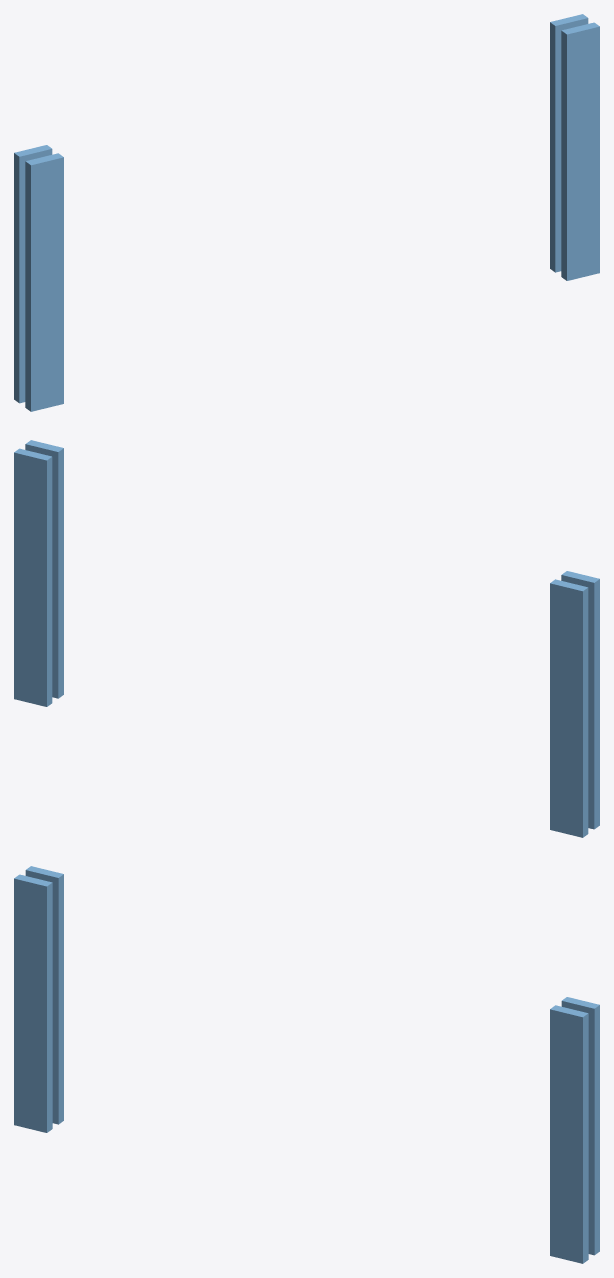
Rendered from Barras.fbx.
3 views of the same model, one above another, from view 1: azimuth 30°, elevation 25°; view 2: azimuth 150°, elevation 25°; view 3: azimuth 330°, elevation 25° (orthographic).
Visible parts, largest first — view 1: Barras; view 2: Barras; view 3: Barras.
Part boxes in pixels (x1,y1,x2,y2): Barras: (14, 14, 599, 411); Barras: (14, 440, 599, 837); Barras: (14, 866, 599, 1263).
Bounding box in the file's own units: 844 × 350 × 43.85.
